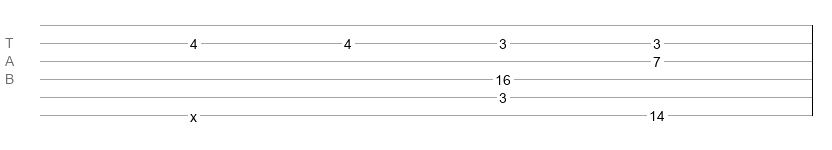14: (649, 108, 665, 118)
16: (495, 72, 511, 82)
3: (499, 90, 507, 100), (499, 36, 507, 46), (653, 36, 661, 46)
4: (190, 36, 198, 46), (344, 36, 352, 46)
7: (653, 54, 661, 64)
x: (190, 109, 197, 117)
